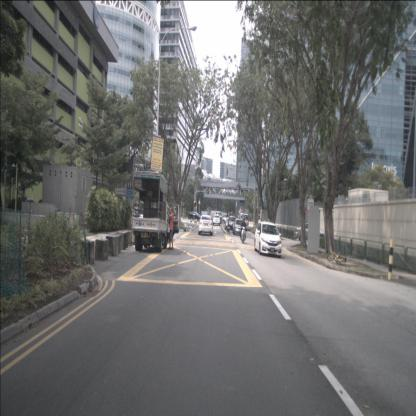human-pedestrian-adult: (167, 205, 174, 251)
movable_object-barrier: (94, 236, 109, 260), (82, 239, 96, 264), (106, 233, 120, 256), (118, 230, 127, 250), (124, 232, 134, 246), (249, 221, 255, 228)
vehicle-bicycle: (326, 252, 347, 267)
vehicle-car: (254, 220, 282, 259), (295, 223, 327, 244), (198, 214, 213, 237), (232, 219, 247, 236), (227, 215, 237, 232), (188, 211, 201, 222), (222, 214, 233, 224), (212, 214, 220, 226), (225, 218, 232, 230)
vehicle-motorcycle: (240, 215, 247, 244)
vehicle-truck: (132, 169, 180, 252), (201, 211, 222, 224)
